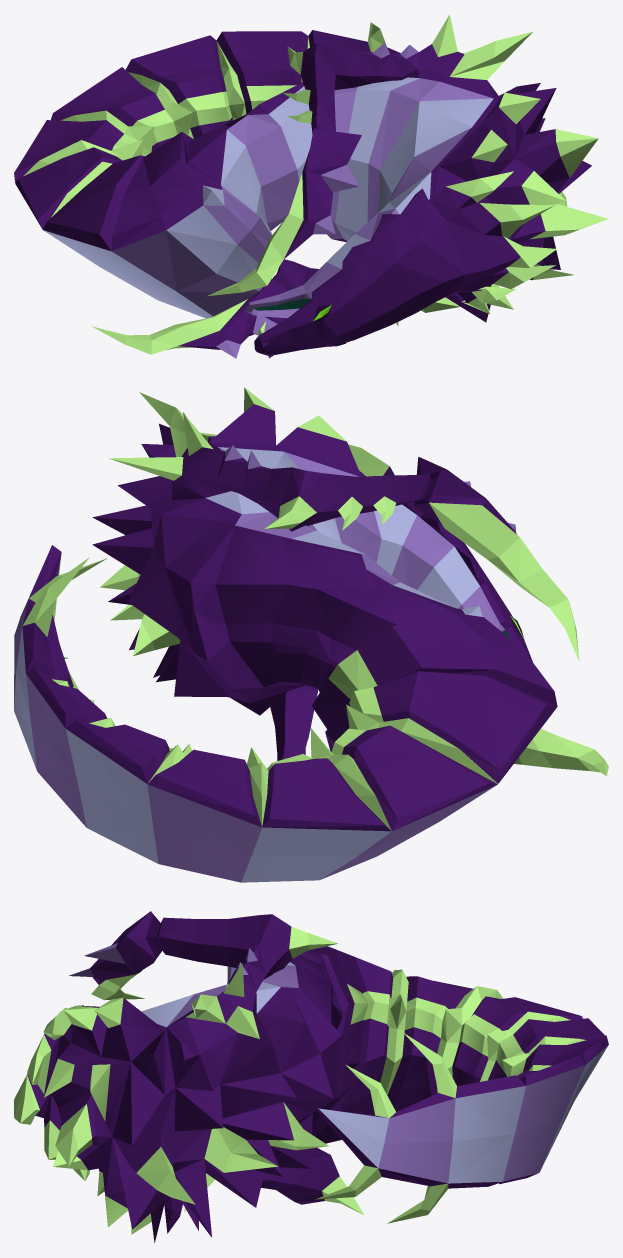
The model's file is Dead (38).obj.
3 renders of one model, top to bottom at view 1: azimuth 30°, elevation 25°; view 2: azimuth 150°, elevation 25°; view 3: azimuth 270°, elevation 25°, orthographic. The views are drawn at different scales.
Visible parts, largest first — view 1: Alien_Serpent; view 2: Alien_Serpent; view 3: Alien_Serpent.
Boxes of the visible parts, x1,y1,x2,y2 form: Alien_Serpent: (14,14,608,358); Alien_Serpent: (14,387,608,882); Alien_Serpent: (14,911,608,1242).
Size of the model in its own units: 224 by 141 by 246.
1 material, 1 textured.
